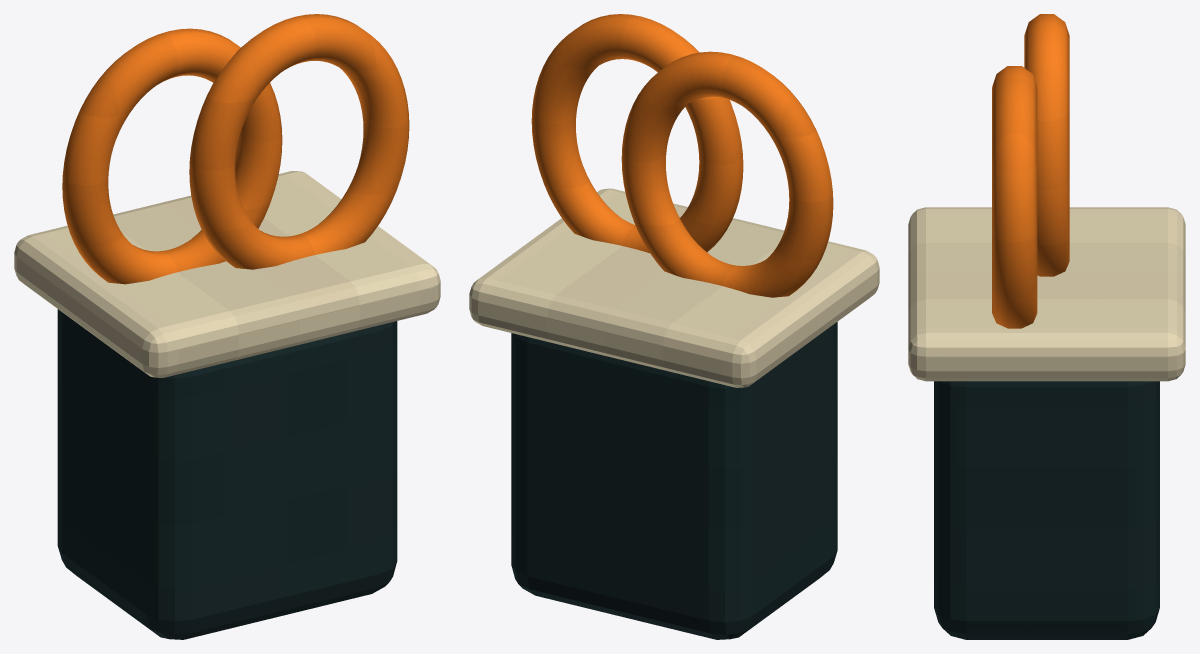
File: connection_console.gltf
3 views of the same model, side by side, from view 1: azimuth 30°, elevation 25°; view 2: azimuth 150°, elevation 25°; view 3: azimuth 270°, elevation 25° (orthographic). The views are drawn at different scales.
Visible parts, largest first — view 1: V14_connection_console; view 2: V14_connection_console; view 3: V14_connection_console.
Boxes of the visible parts, x1,y1,x2,y2 form: V14_connection_console: (14,14,440,639); V14_connection_console: (469,14,879,639); V14_connection_console: (908,14,1185,639).
Size of the model in its own units: 1.11 by 1.86 by 0.86.
Materials: 3 (3 with a texture image).
